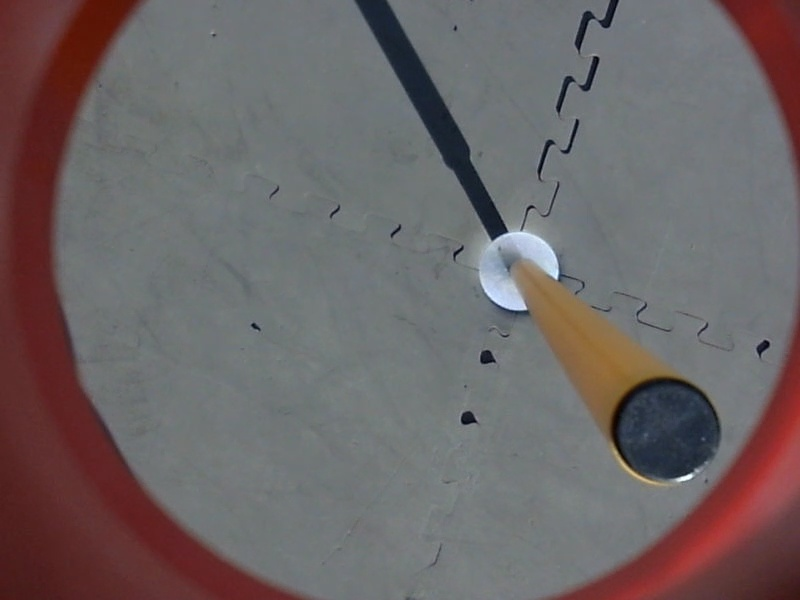tip: (603, 372, 728, 488)
